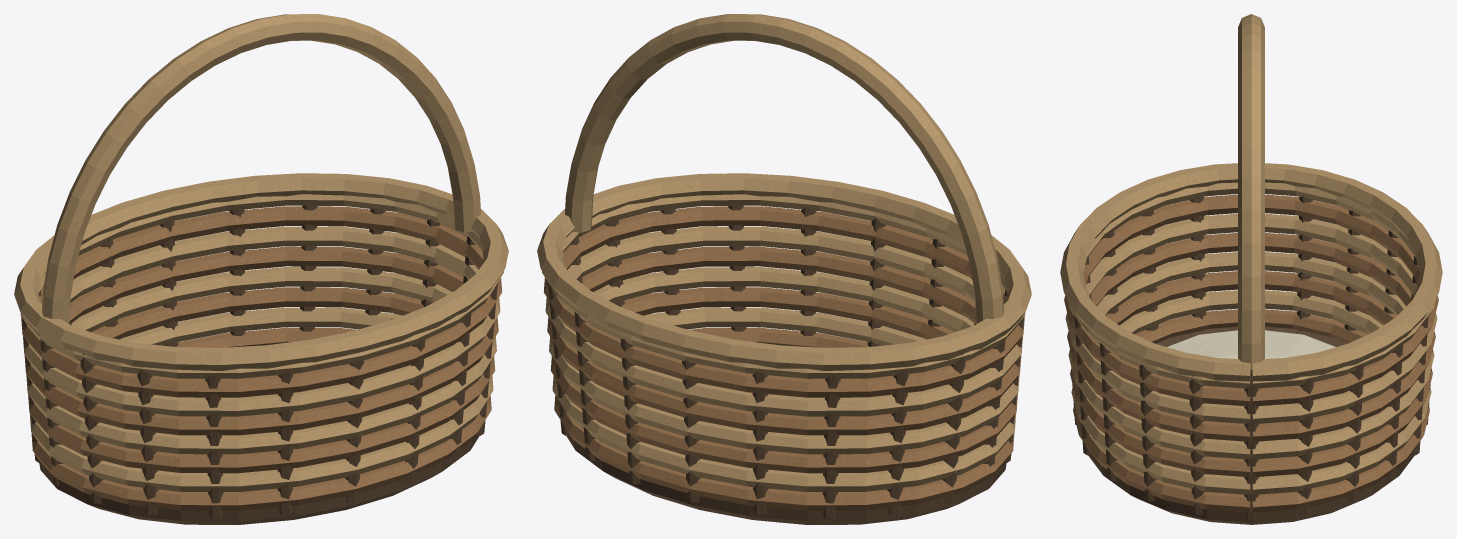
File: yukkuri_carrier.obj
The picture shows the model from 3 angles, left to right: view 1: azimuth 30°, elevation 25°; view 2: azimuth 150°, elevation 25°; view 3: azimuth 270°, elevation 25°; orthographic projection. The views are drawn at different scales.
Visible parts, largest first — view 1: yukkuri_carrier; view 2: yukkuri_carrier; view 3: yukkuri_carrier.
Part boxes in pixels (x1,y1,x2,y2): yukkuri_carrier: (14,14,508,524); yukkuri_carrier: (537,14,1031,524); yukkuri_carrier: (1060,14,1442,524).
Size of the model in its own units: 11.58 by 10.52 by 9.04.
1 material, 1 textured.
